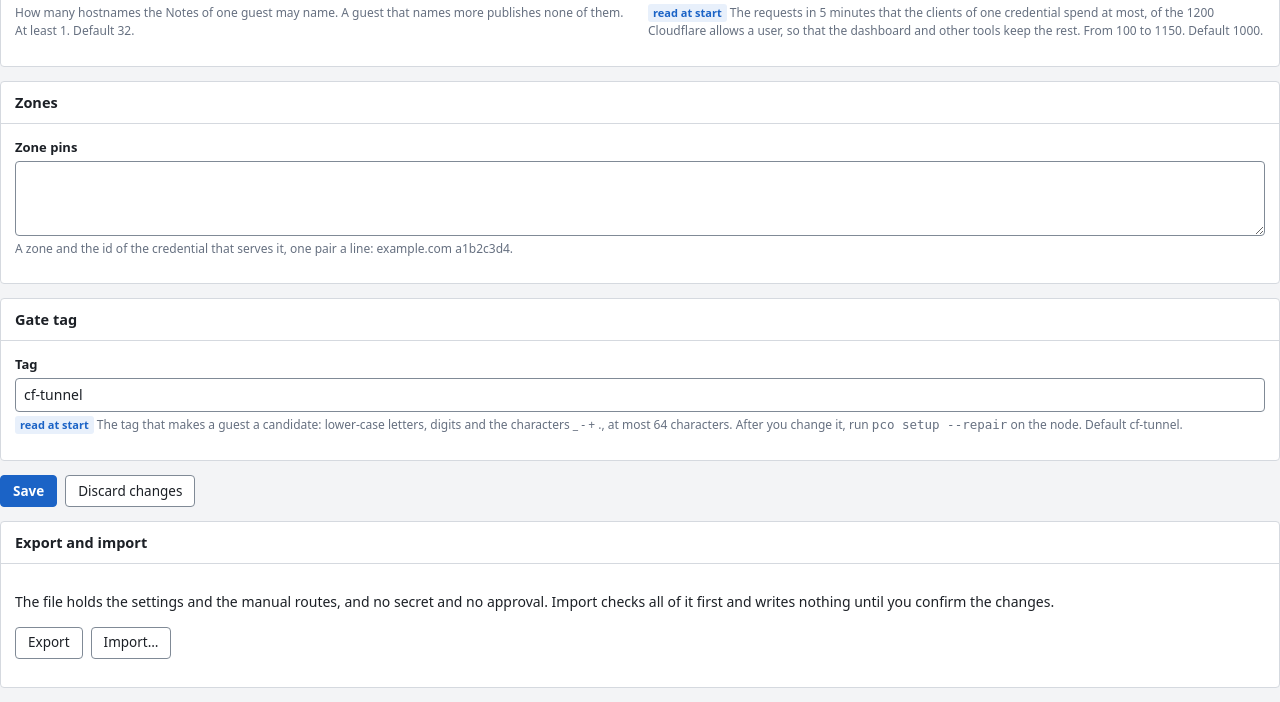
Test case: a link from a route that waits for allowHosts › the first entry of allowHosts says that only what it matches is published from then on, and what stops
(page scrolled)
Click the button "Save". click: x=29, y=491
box: [0, 475, 57, 507]
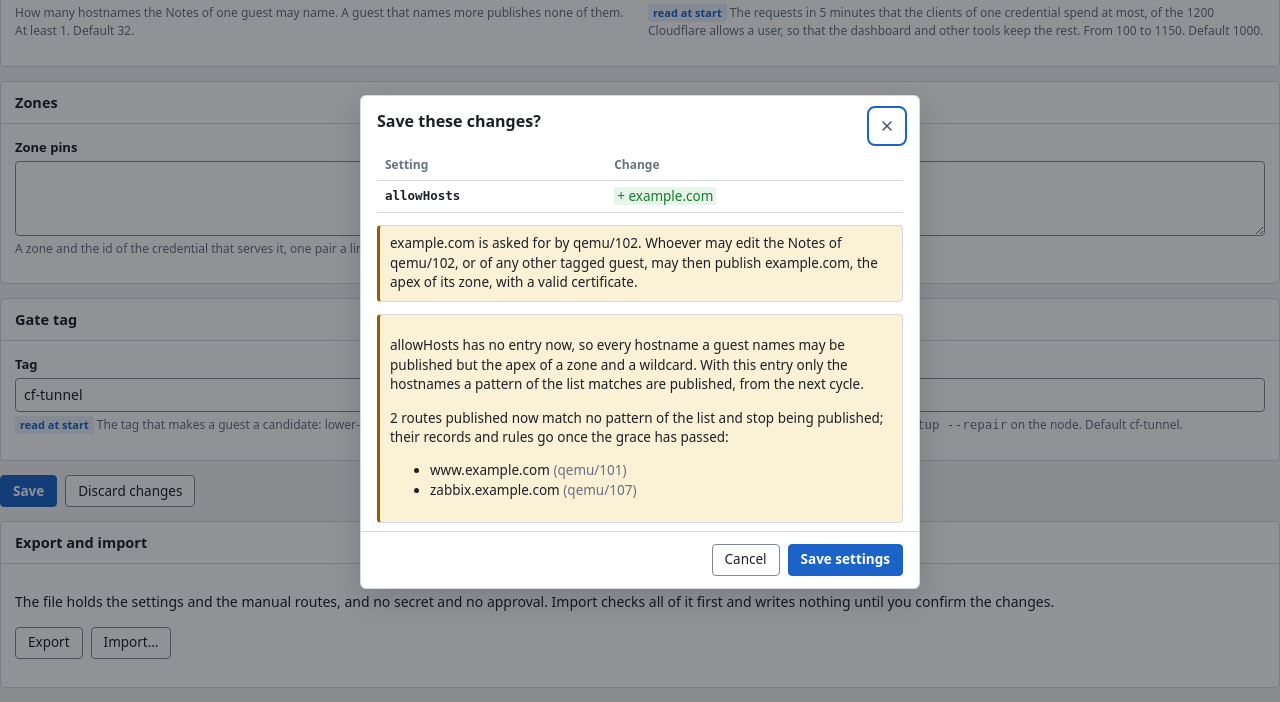
Check: the text "allowHosts has no entry now" shows "allowHosts has no entry now, so every hostname a guest names may be published but the apex of a zone and a wildcard. With this entry only the hostnames a patter", box [390, 336, 864, 393]
Check: the text "no pattern of the list" shows "2 routes published now match no pattern of the list and stop being published; their records and rules go once the grace has passed:", box [390, 408, 892, 448]
